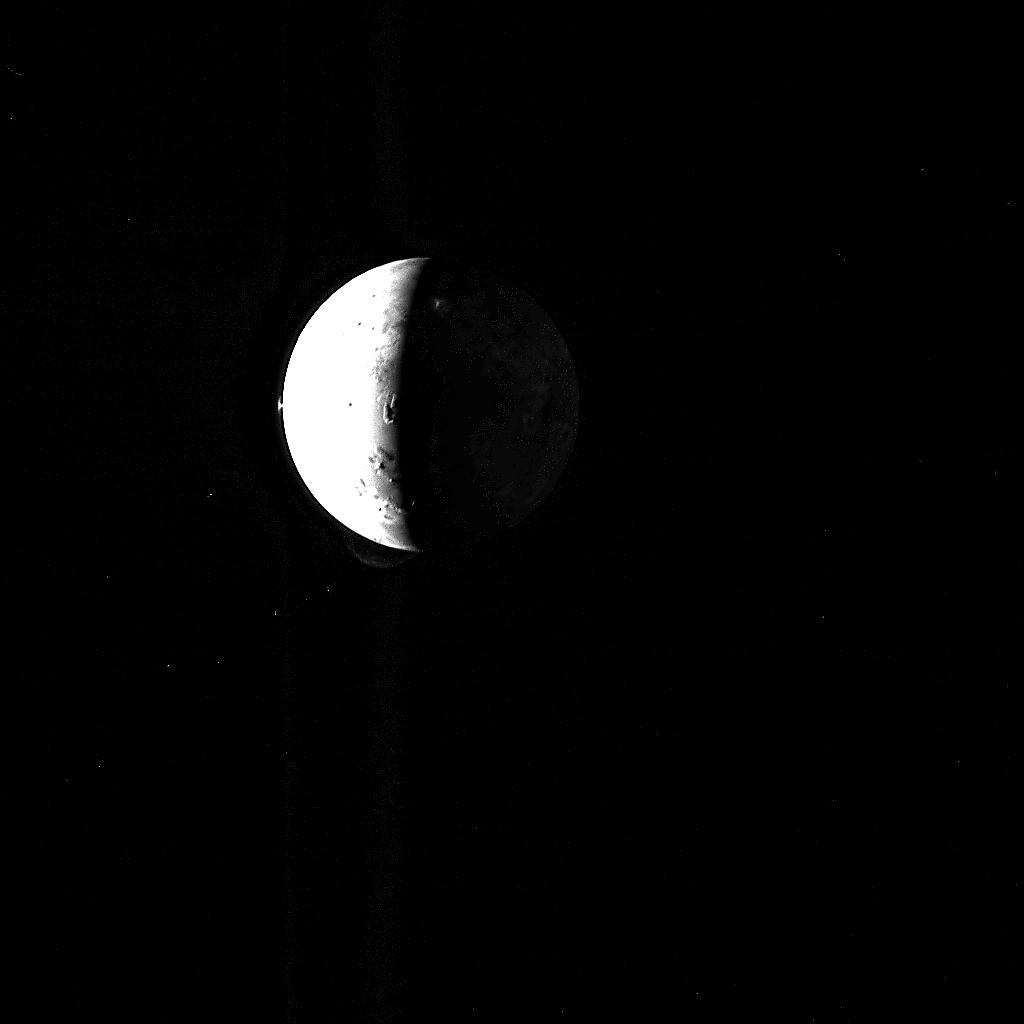plumes: (346, 530, 412, 570), (278, 395, 284, 413)
